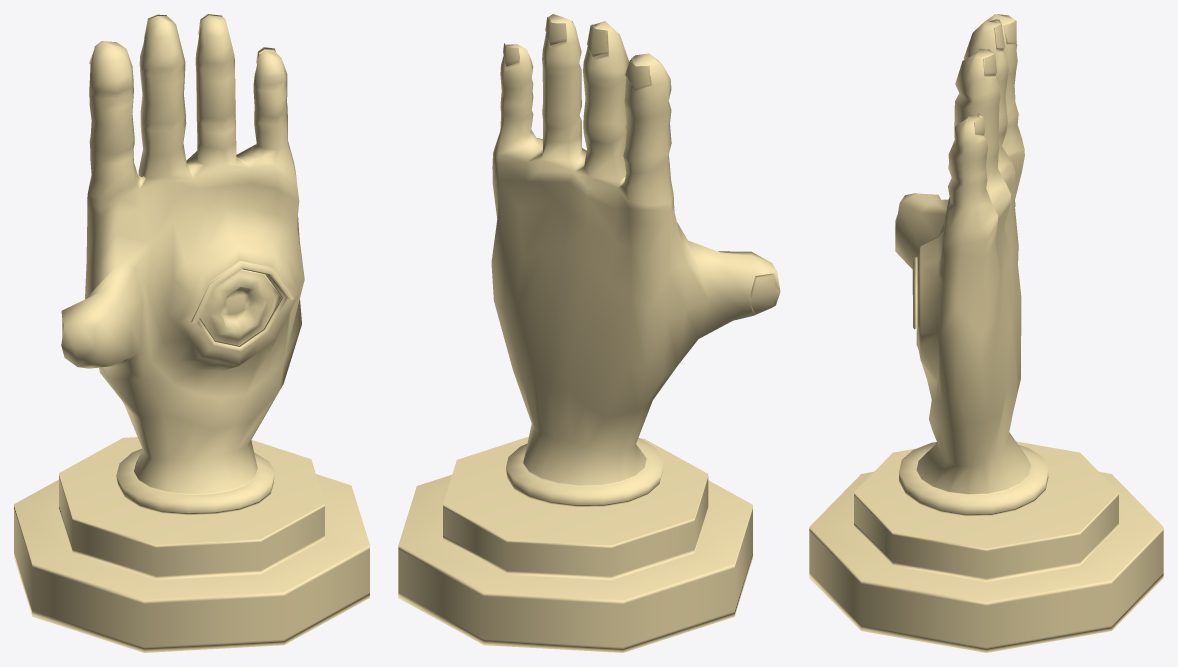
File: Reina_alqui.fbx
3 views of the same model, side by side, from view 1: azimuth 30°, elevation 25°; view 2: azimuth 150°, elevation 25°; view 3: azimuth 270°, elevation 25° (orthographic). The views are drawn at different scales.
Parts seen in each view (by area): view 1: Base_Reina1; view 2: Base_Reina1; view 3: Base_Reina1.
Boxes of the visible parts, x1,y1,x2,y2 form: Base_Reina1: [14, 14, 369, 652]; Base_Reina1: [398, 14, 780, 652]; Base_Reina1: [809, 14, 1163, 652].
Bounding box in the file's own units: 6.18 × 10.2 × 6.02.
